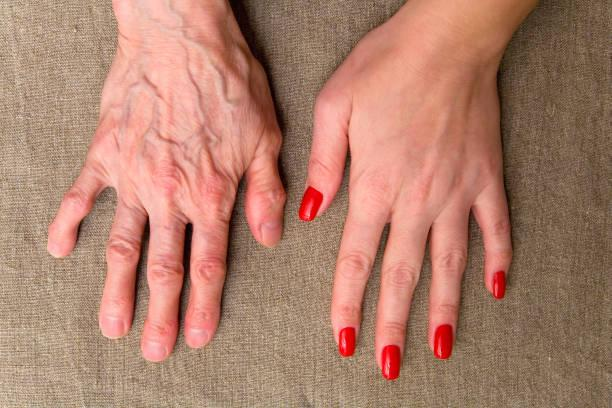Dry-Skin: (121, 35, 234, 242)
